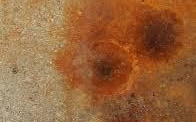Corrosion: (53, 1, 196, 122)
